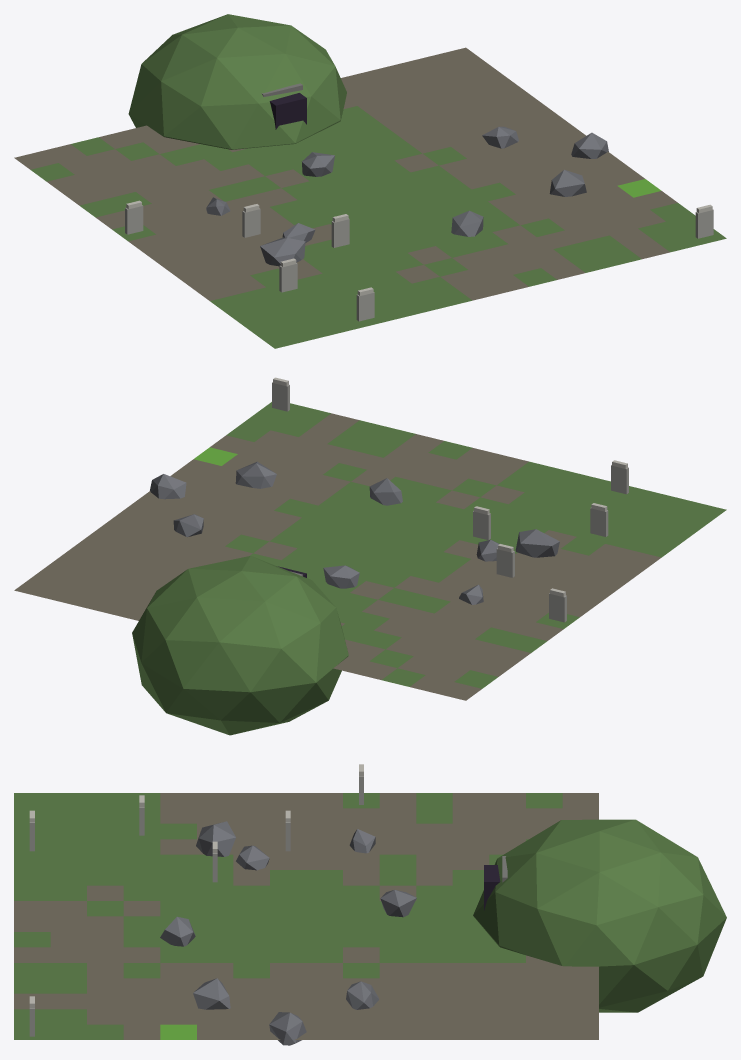
File: chunk_2_21.glb
The picture shows the model from 3 angles, top to bottom: view 1: azimuth 30°, elevation 25°; view 2: azimuth 150°, elevation 25°; view 3: azimuth 270°, elevation 25°; orthographic projection. The views are drawn at different scales.
Visible parts, largest first — view 1: chunk_2_21; view 2: chunk_2_21; view 3: chunk_2_21.
Boxes of the visible parts, left/top/right/bottom form: chunk_2_21: left=14, top=14, right=726, bottom=348; chunk_2_21: left=14, top=377, right=726, bottom=735; chunk_2_21: left=14, top=764, right=726, bottom=1045.
Size of the model in its own units: 16.08 by 5.13 by 19.5.
